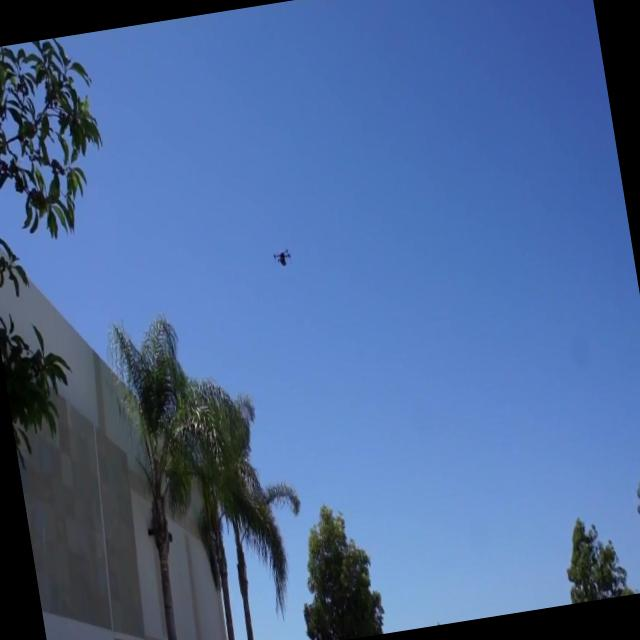drone: (271, 245, 296, 271)
